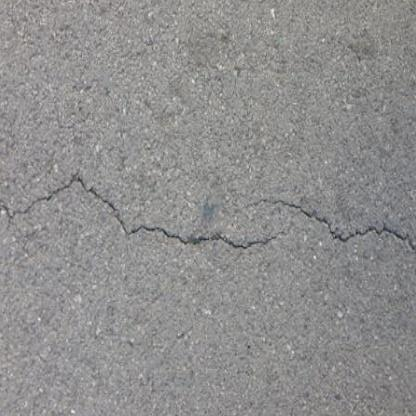Cracks: (0, 169, 293, 254), (247, 196, 416, 265)
